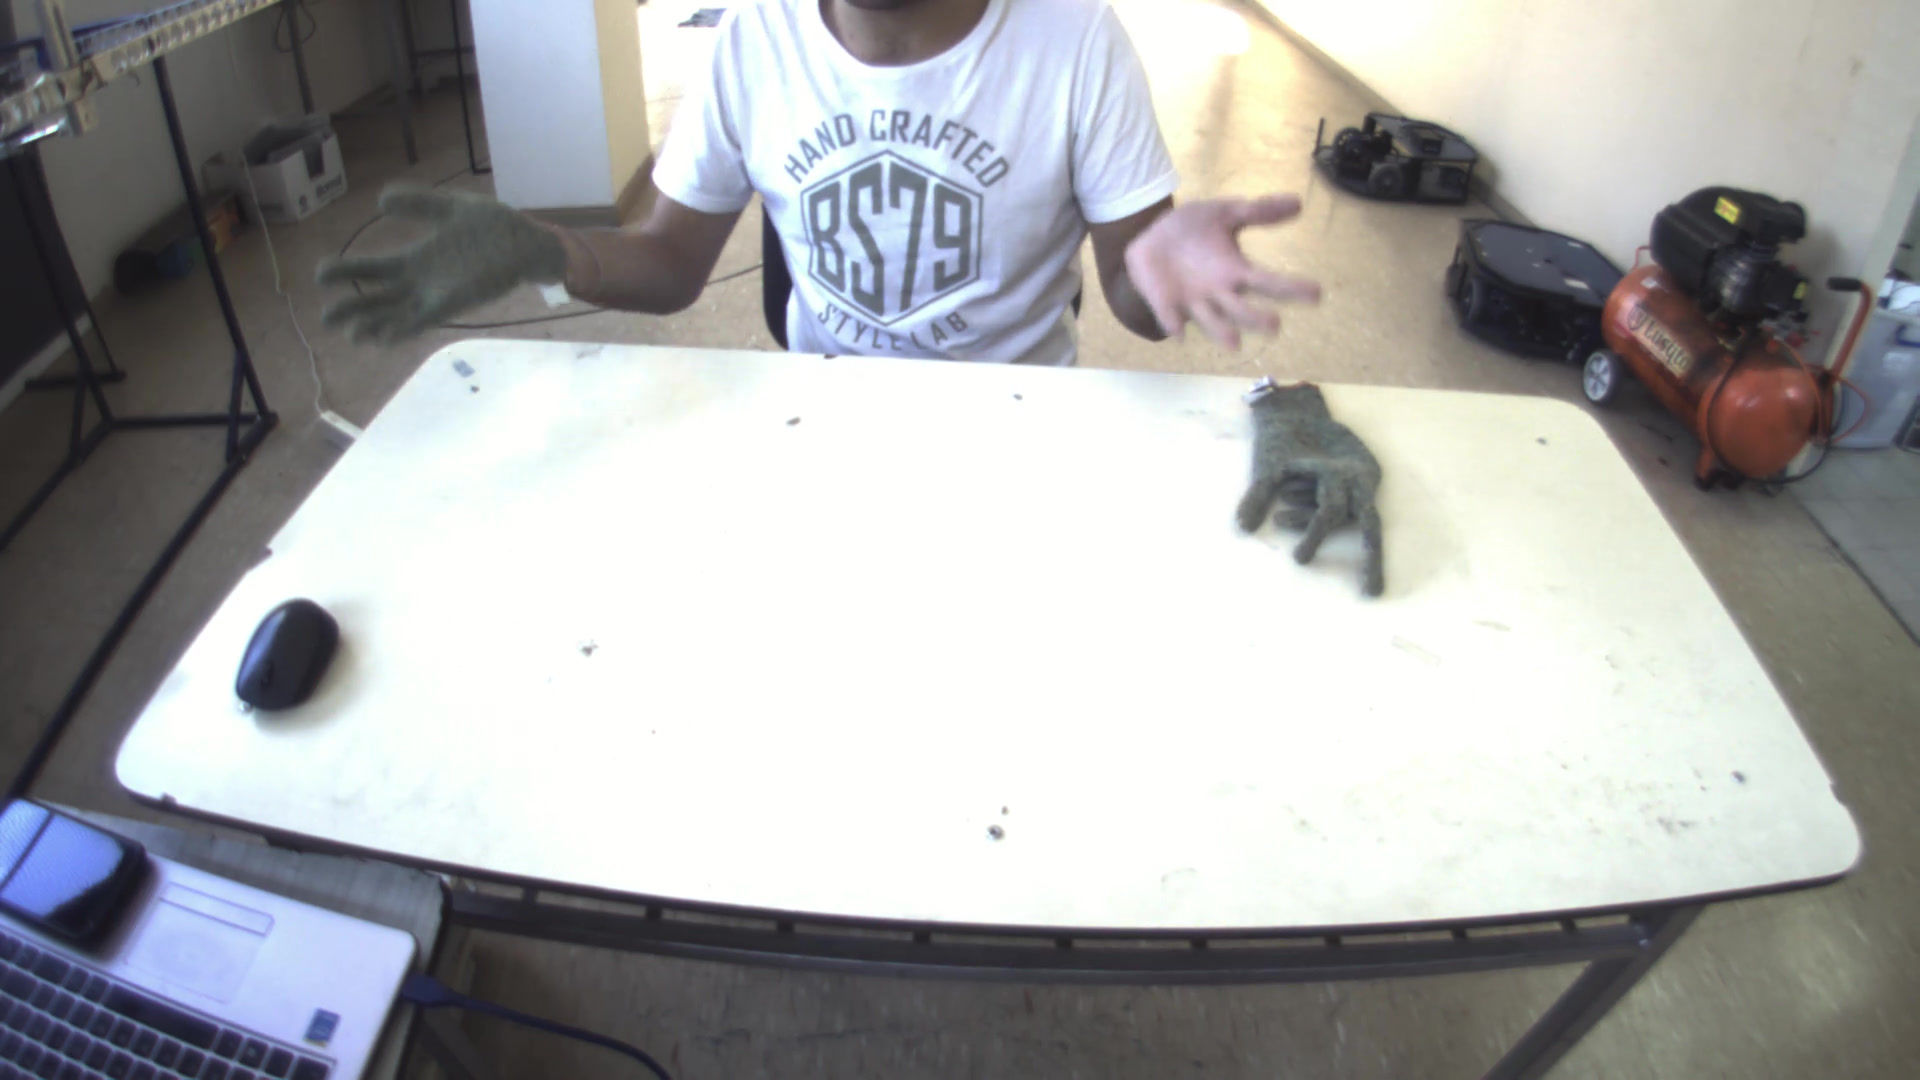hand: (305, 174, 572, 363), (1112, 179, 1336, 342)
